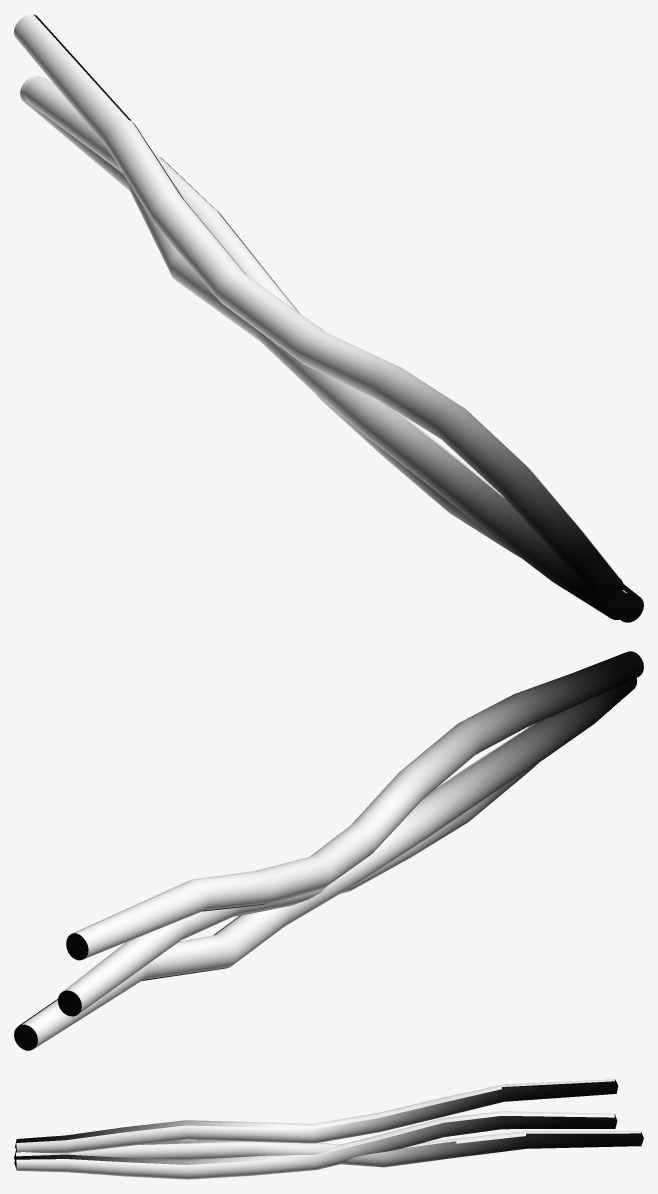
The model's file is eyeballnerves.fbx.
3 renders of one model, top to bottom at view 1: azimuth 30°, elevation 25°; view 2: azimuth 150°, elevation 25°; view 3: azimuth 270°, elevation 25°, orthographic. The views are drawn at different scales.
Visible parts, largest first — view 1: pCylinder4; view 2: pCylinder4; view 3: pCylinder4.
Boxes of the visible parts, x1,y1,x2,y2 form: pCylinder4: (14, 14, 643, 622); pCylinder4: (14, 651, 643, 1050); pCylinder4: (14, 1079, 643, 1179).
Bounding box in the file's own units: 1.95 × 4.08 × 24.01.
1 material, 1 textured.
